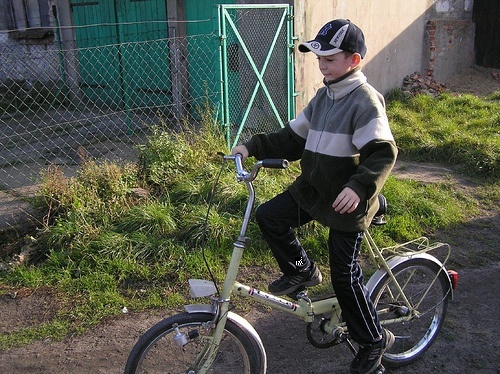car: (125, 141, 466, 374)
person: (231, 19, 401, 373)
person/foot: (349, 328, 395, 374), (267, 263, 324, 296)
person/hand: (331, 188, 360, 214), (231, 144, 249, 163)
person/head: (316, 19, 366, 82)
